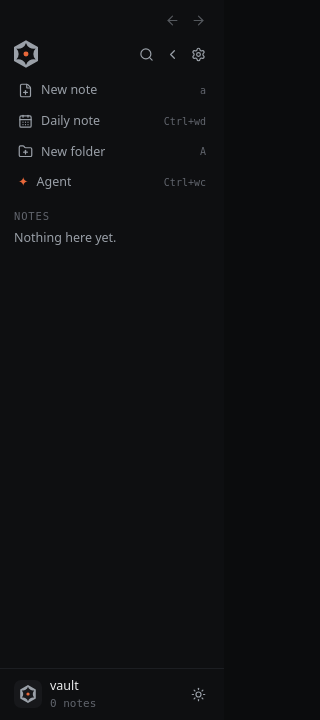
Test case: Sidebar › drops the empty line while the first note is being named
Expected: the text "Nothing here yet." is shown, [14,229,116,246]
What coordinates should you click on to do the following:
click the button "New note a"
I would click on:
 (112, 90)
Its box is [10,76,214,105].
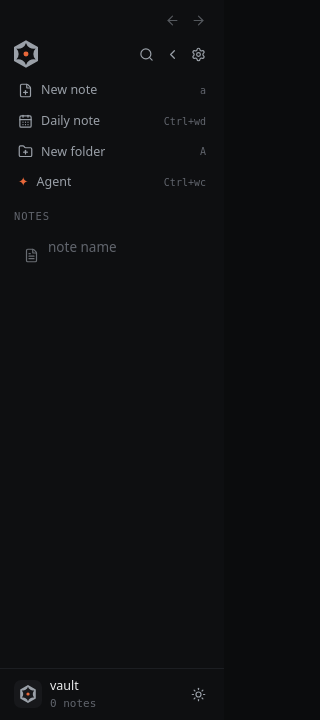
Now the text "Nothing here yet." is gone
Now the field named "New note name" is shown, box [48,237,200,258]
